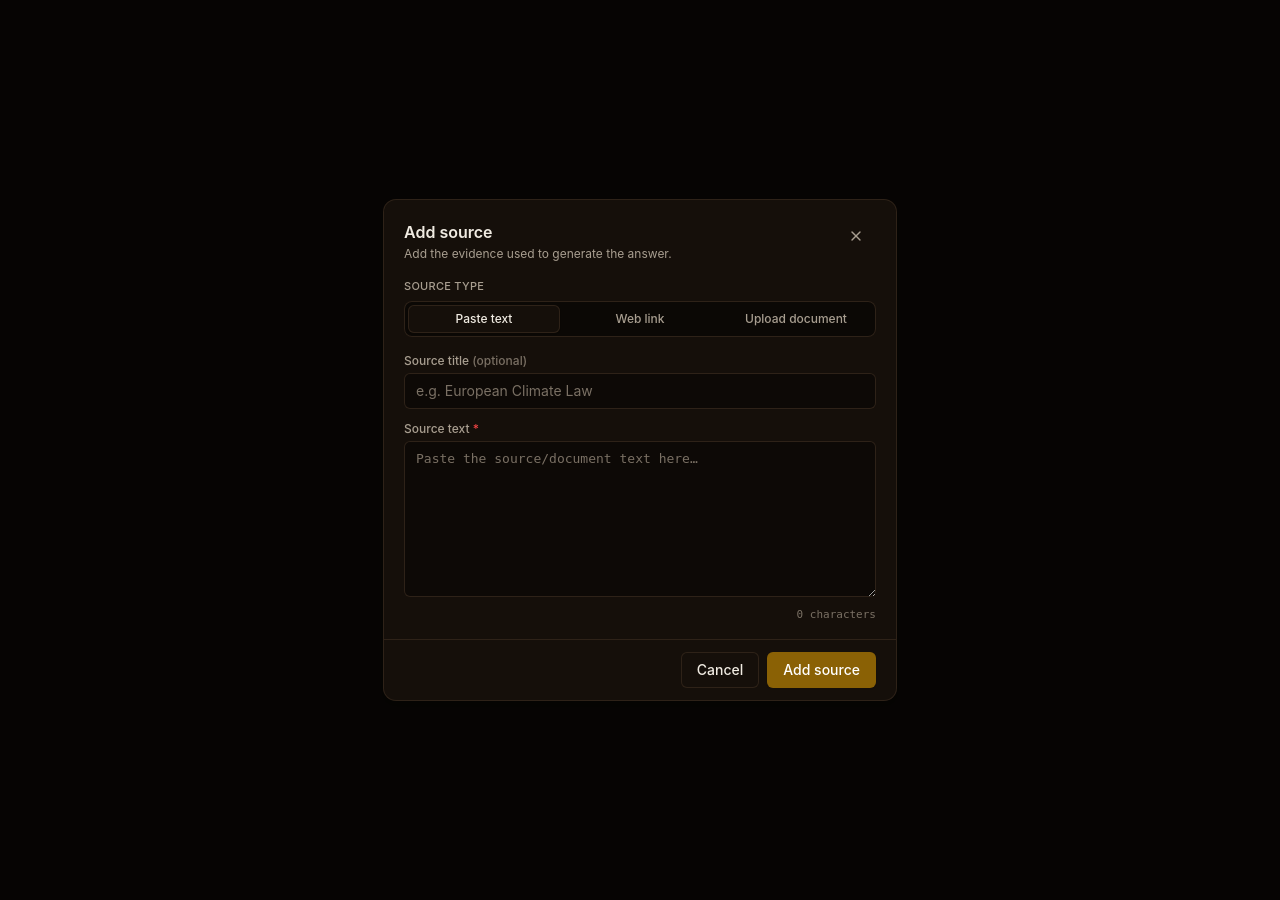
Scenario: AddSourceDialog — web link (backend does not fetch URLs) › requires URL AND source text; explains the URL is metadata only
The width and height of the screenshot is (1280, 900).
Click the tab "Web link".
click(640, 318)  # box x1=564 y1=304 x2=716 y2=332
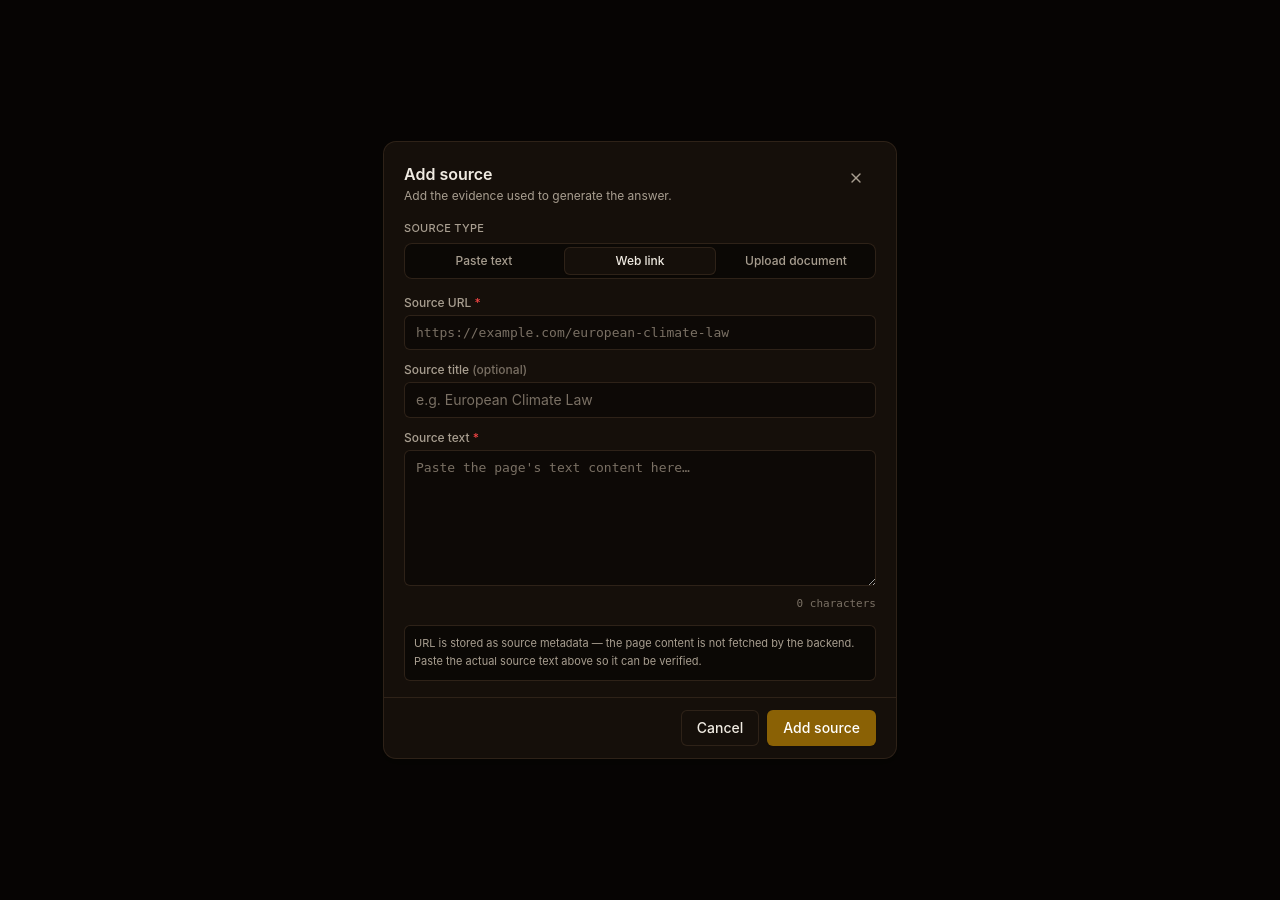
Type "https://example.com/law" into the field labelled "Source URL *".
click(640, 333); type("https://example.com/law")  # box x1=404 y1=315 x2=876 y2=350
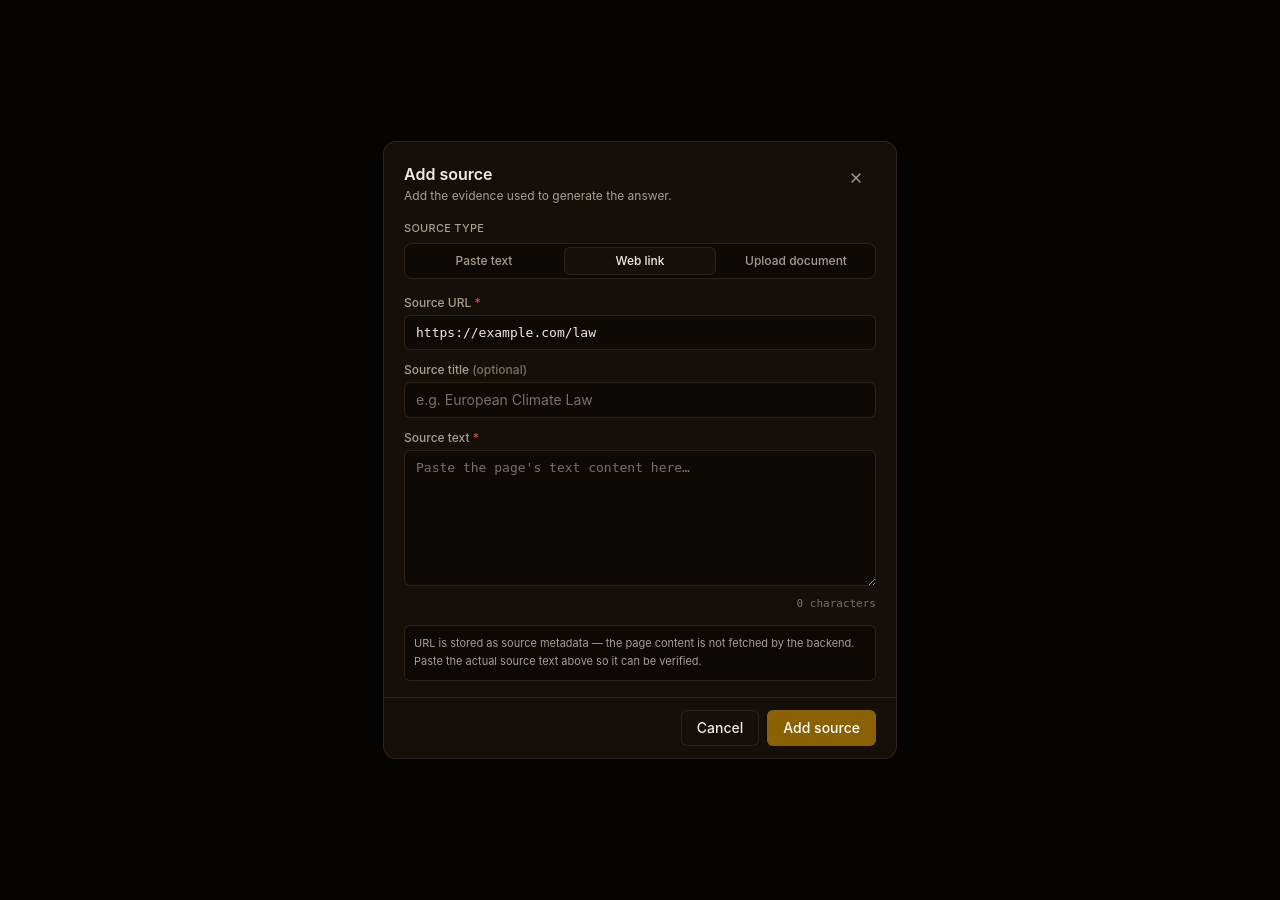
Expected: the button "Add source" is disabled, x1=767 y1=710 x2=876 y2=746
Type "The page body text." into the text box labelled "Source text *".
click(640, 518); type("The page body text.")  # box x1=404 y1=450 x2=876 y2=586
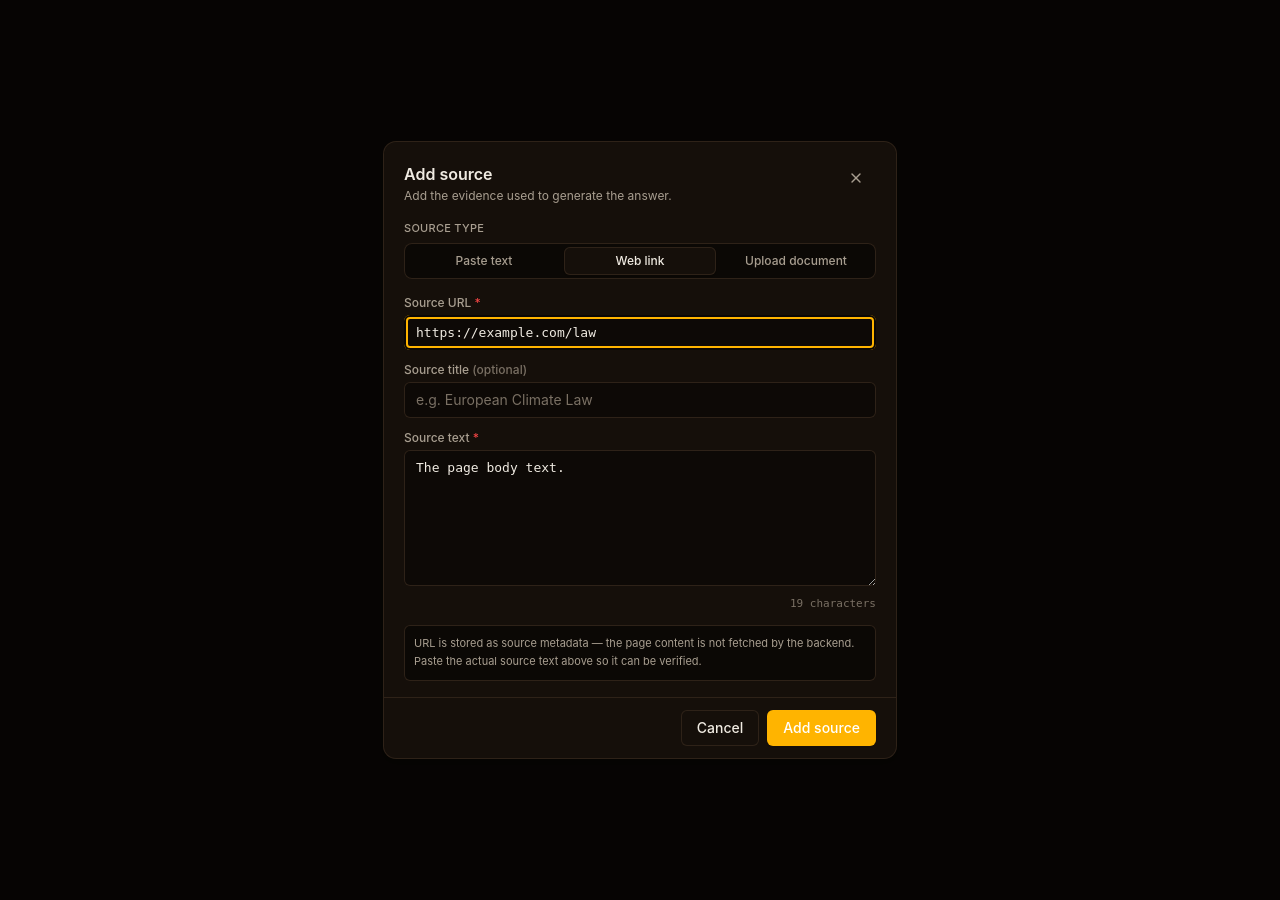
Result: the text "URL is stored as source metadata" is shown at x1=414 y1=636 x2=854 y2=668
Result: the button "Add source" is enabled at x1=767 y1=710 x2=876 y2=746
